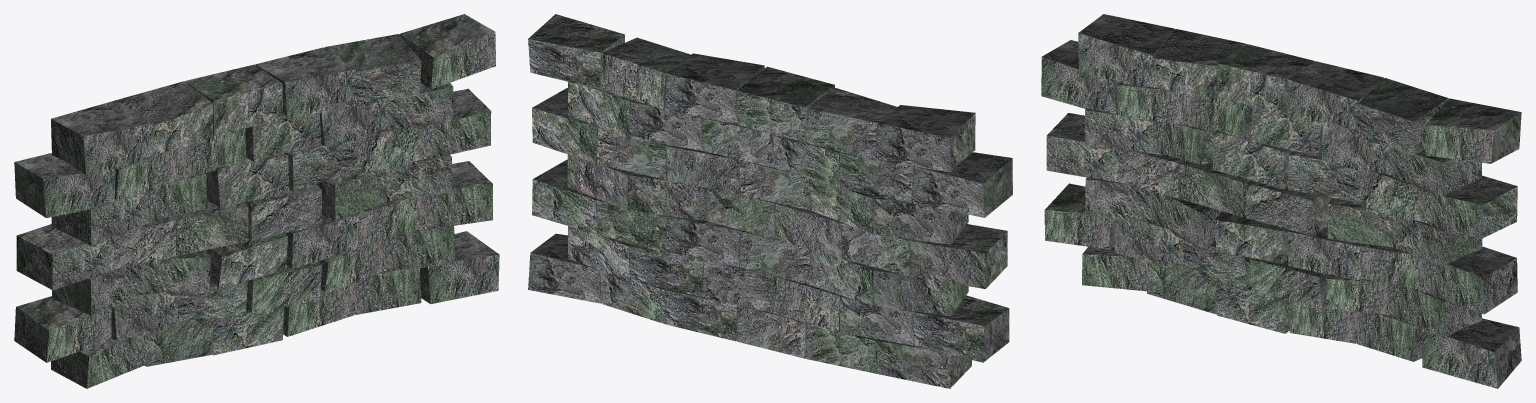
The model's file is stone_wall 1.fbx.
3 renders of one model, left to right at view 1: azimuth 30°, elevation 25°; view 2: azimuth 150°, elevation 25°; view 3: azimuth 330°, elevation 25°, orthographic.
Visible parts, largest first — view 1: stone_wall; view 2: stone_wall; view 3: stone_wall.
Part boxes in pixels (left/top/right/bottom): stone_wall: left=14, top=14, right=499, bottom=388; stone_wall: left=528, top=14, right=1012, bottom=388; stone_wall: left=1041, top=14, right=1521, bottom=388.
Size of the model in its own units: 7.24 by 3.93 by 1.05.
1 material, 1 textured.
